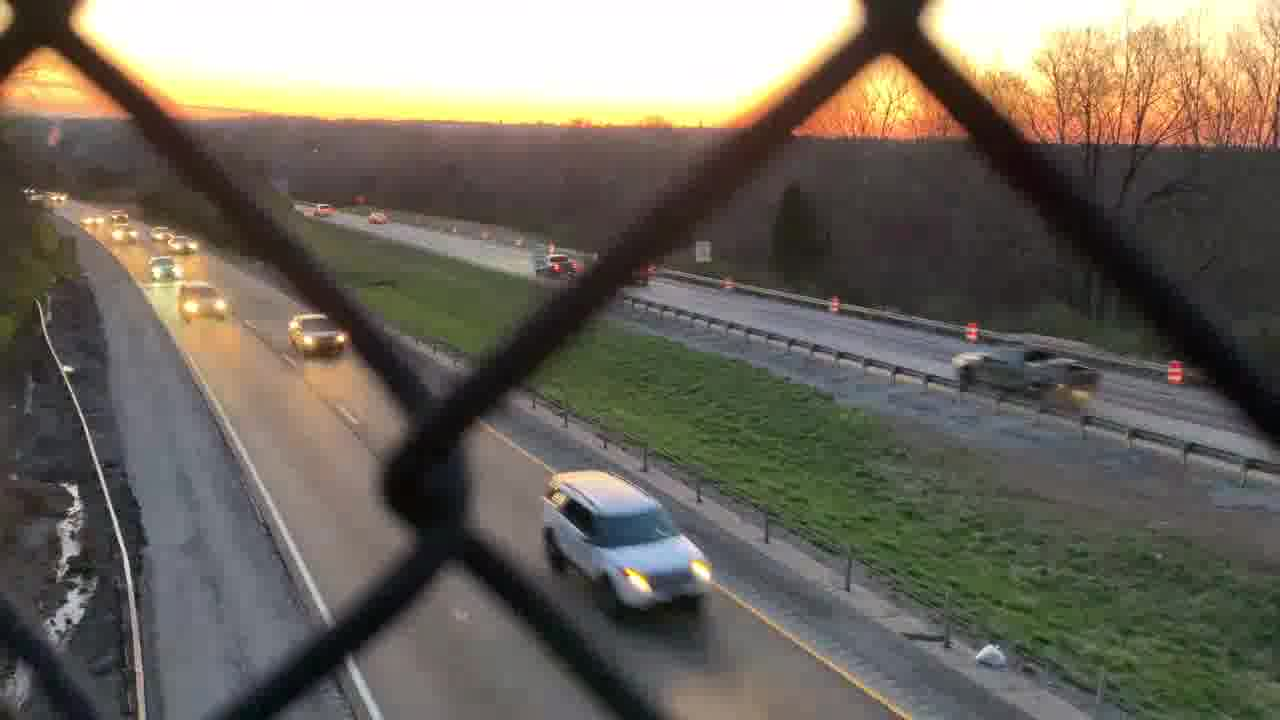largeCar: (540, 468, 716, 618)
lightTruck: (954, 331, 1102, 400)
